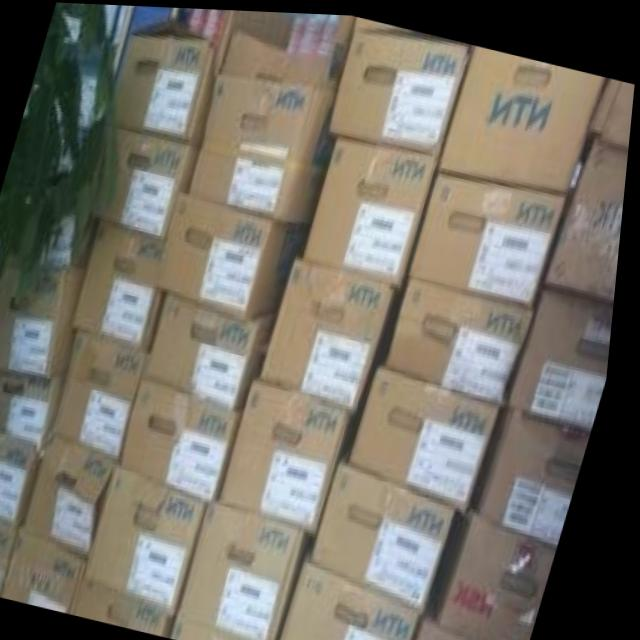box: (194, 8, 356, 224), (441, 41, 606, 187), (321, 453, 464, 608), (412, 166, 571, 305), (357, 362, 509, 506), (157, 190, 316, 321), (267, 257, 400, 410), (227, 379, 358, 534), (306, 133, 440, 282), (391, 272, 539, 400), (97, 464, 216, 614), (189, 502, 317, 640), (332, 28, 469, 154), (447, 509, 567, 640), (487, 404, 599, 542), (129, 376, 250, 503), (517, 282, 619, 426), (154, 293, 279, 408), (549, 133, 631, 298), (118, 15, 217, 144), (59, 330, 154, 464), (76, 219, 171, 350), (34, 427, 124, 560), (292, 556, 432, 640), (112, 121, 204, 241), (0, 254, 89, 378), (12, 529, 100, 614), (85, 580, 189, 637), (0, 370, 76, 448), (0, 430, 59, 525), (593, 73, 636, 145), (0, 515, 29, 597), (183, 614, 255, 640), (428, 614, 491, 640)
